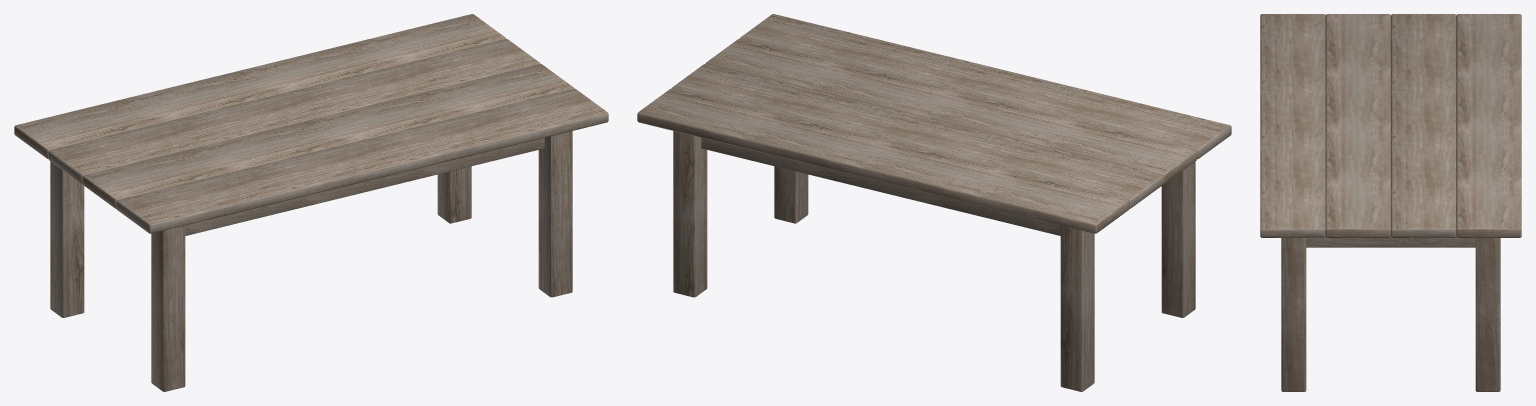
The model's file is simple_wood_table.glb.
3 views of the same model, side by side, from view 1: azimuth 30°, elevation 25°; view 2: azimuth 150°, elevation 25°; view 3: azimuth 270°, elevation 25° (orthographic). The views are drawn at different scales.
Parts seen in each view (by area): view 1: Object_2; view 2: Object_2; view 3: Object_2.
Boxes of the visible parts, x1,y1,x2,y2 form: Object_2: (14,14,608,391); Object_2: (637,14,1231,391); Object_2: (1260,14,1521,391).
Bounding box in the file's own units: 15.6 × 5.92 × 8.
1 material, 1 textured.
